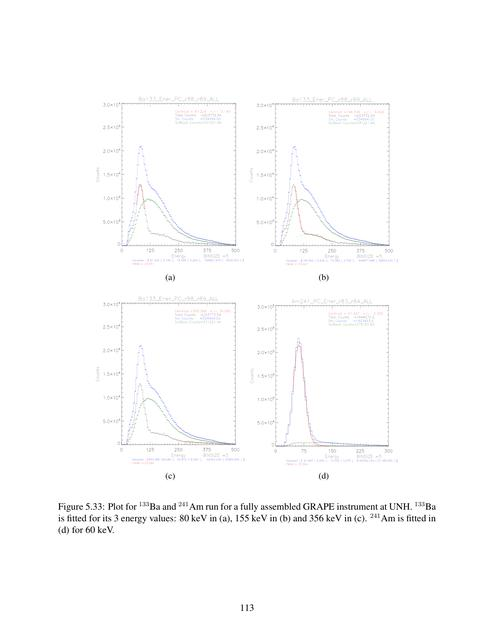box: (93, 93, 403, 265), (94, 294, 399, 468)
